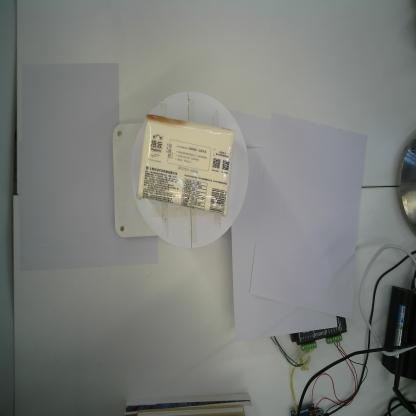Tissue: (134, 111, 236, 217)
